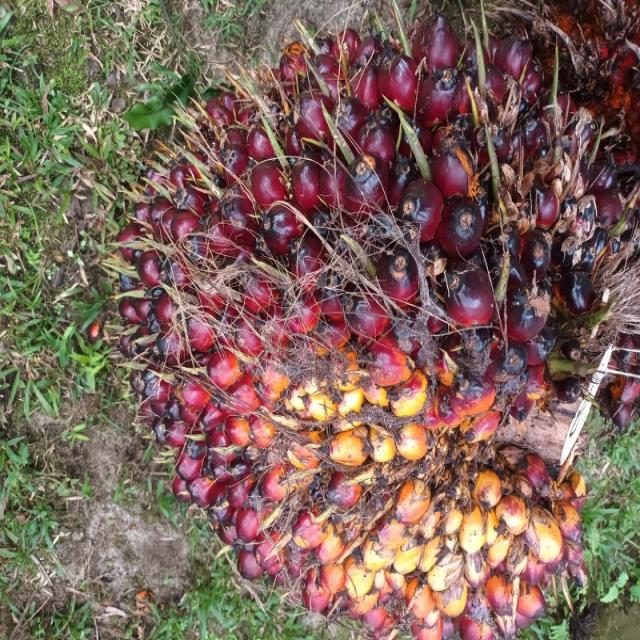fraksi 1: (33, 12, 540, 614)
